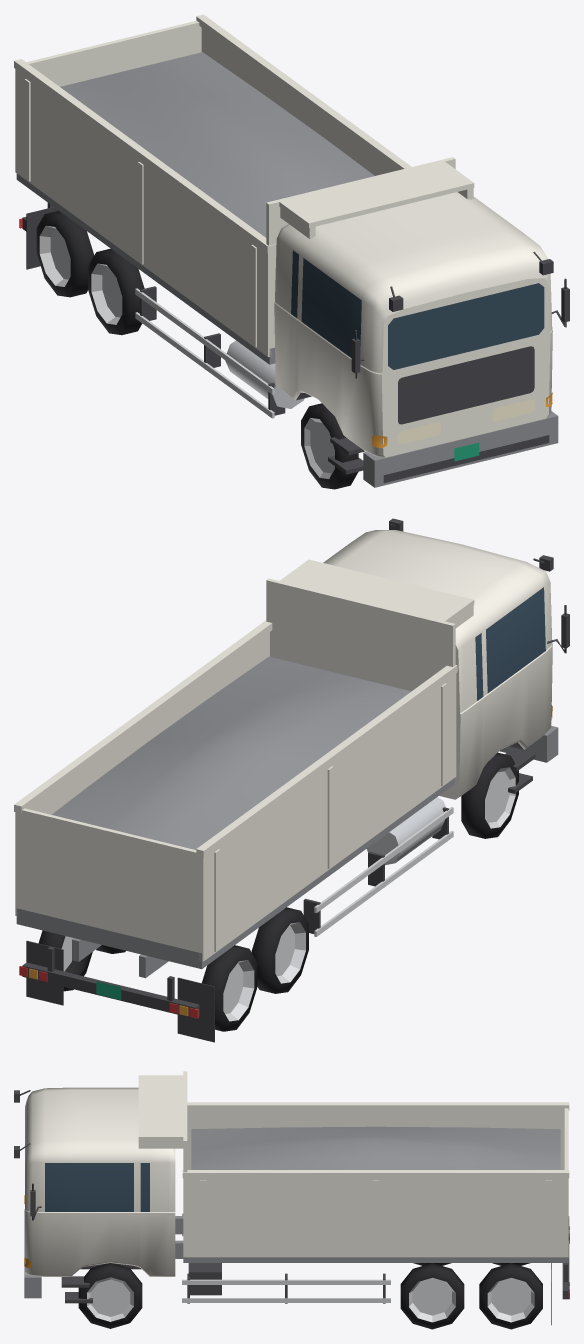
3 views of the same model, one above another, from view 1: azimuth 30°, elevation 25°; view 2: azimuth 150°, elevation 25°; view 3: azimuth 270°, elevation 25° (orthographic). The views are drawn at different scales.
Visible parts, largest first — view 1: 11_3; view 2: 11_3; view 3: 11_3.
Part boxes in pixels (left/top/right/bottom): 11_3: left=14, top=14, right=569, bottom=489; 11_3: left=14, top=518, right=569, bottom=1042; 11_3: left=14, top=1071, right=569, bottom=1329.
Size of the model in its own units: 2.83 by 3.14 by 8.32.
